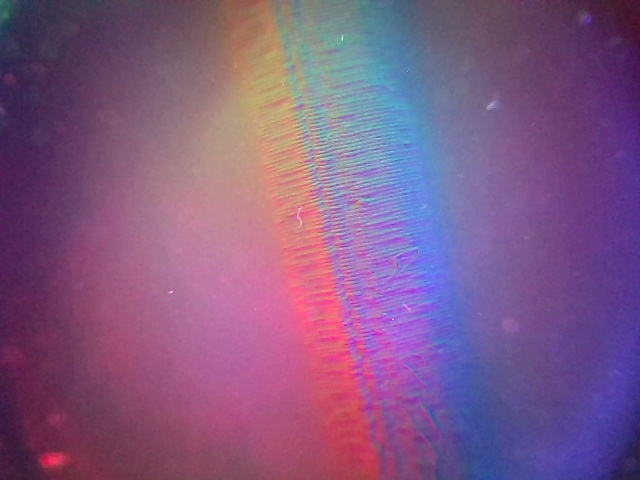contact: (233, 3, 505, 477)
